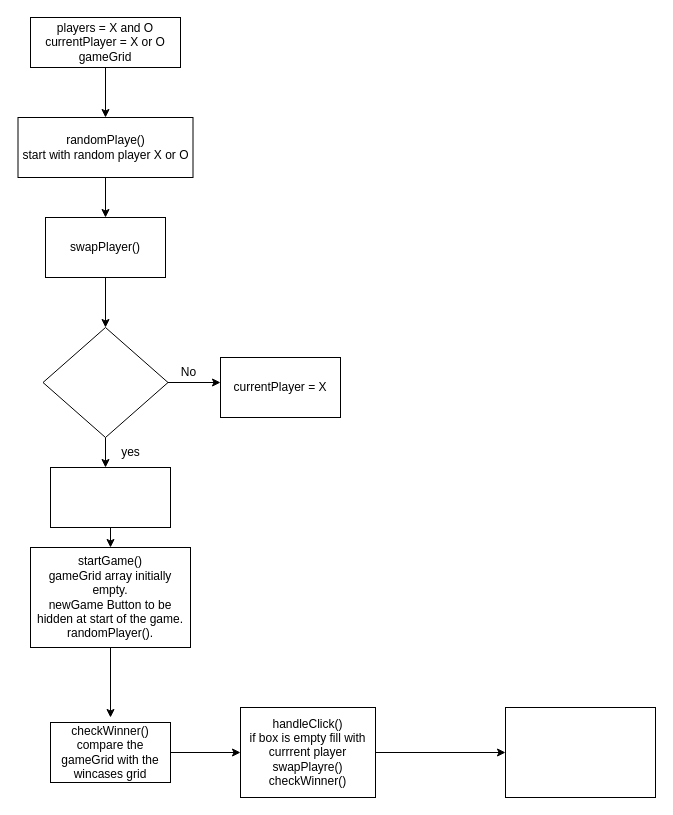
Some shapes in this 673 by 815 pixel diagram are drawn without their labels. Each missing label, with the centre of its shape:
current player is = O: the point at 110,497
if currrenPlayer is O: the point at 105,382
resetButton startGame() remove hightlight empty green: the point at 580,752
